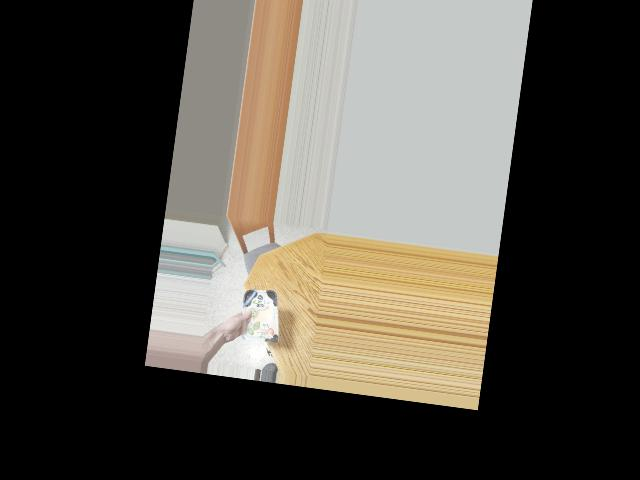cheese: (238, 288, 281, 339)
